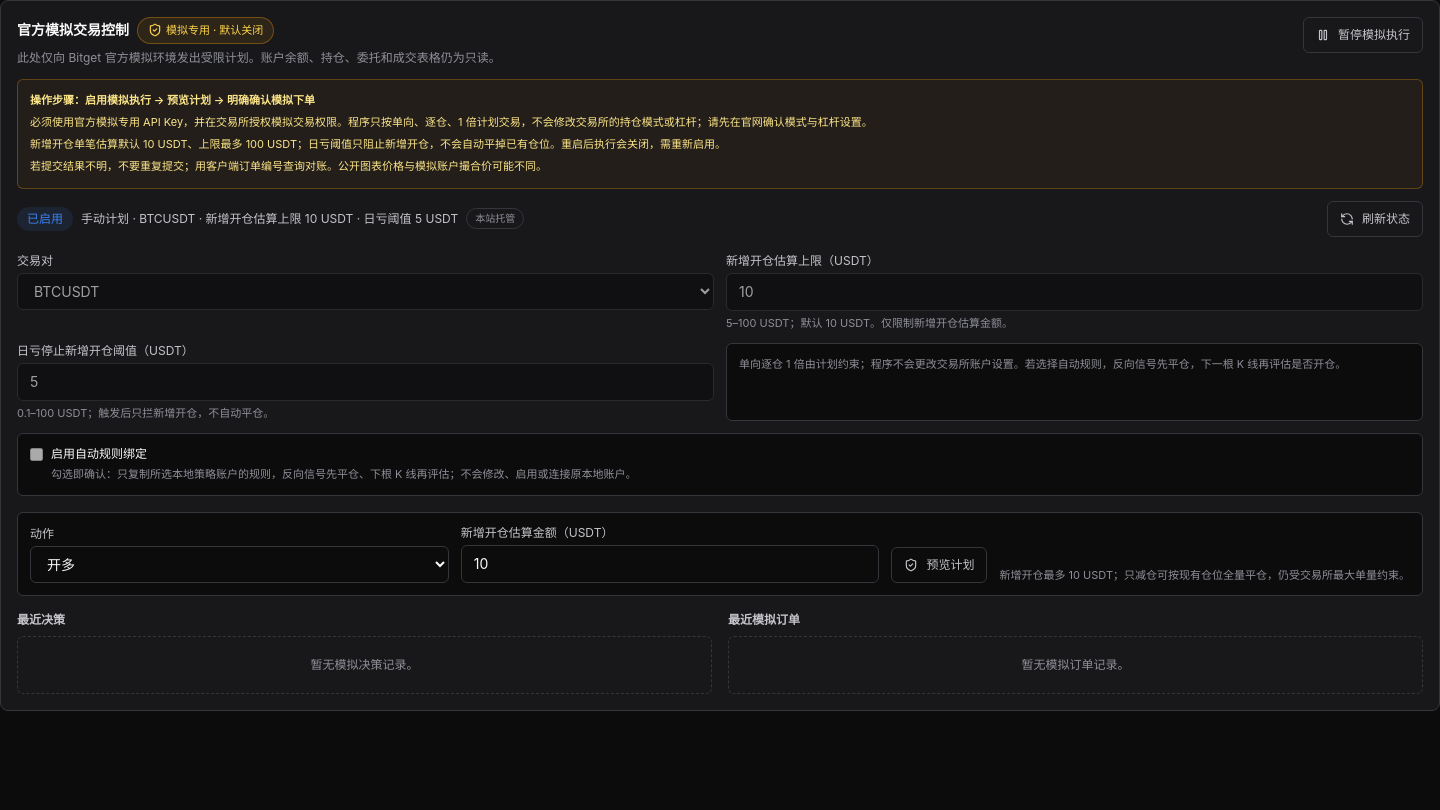
allows reduce-only full-position estimates above the new-open cap and accepts string estimates
The image size is (1440, 810).
Select "平空" in the dropdown labelled "动作" at (239, 565), box [30,546,449,583]
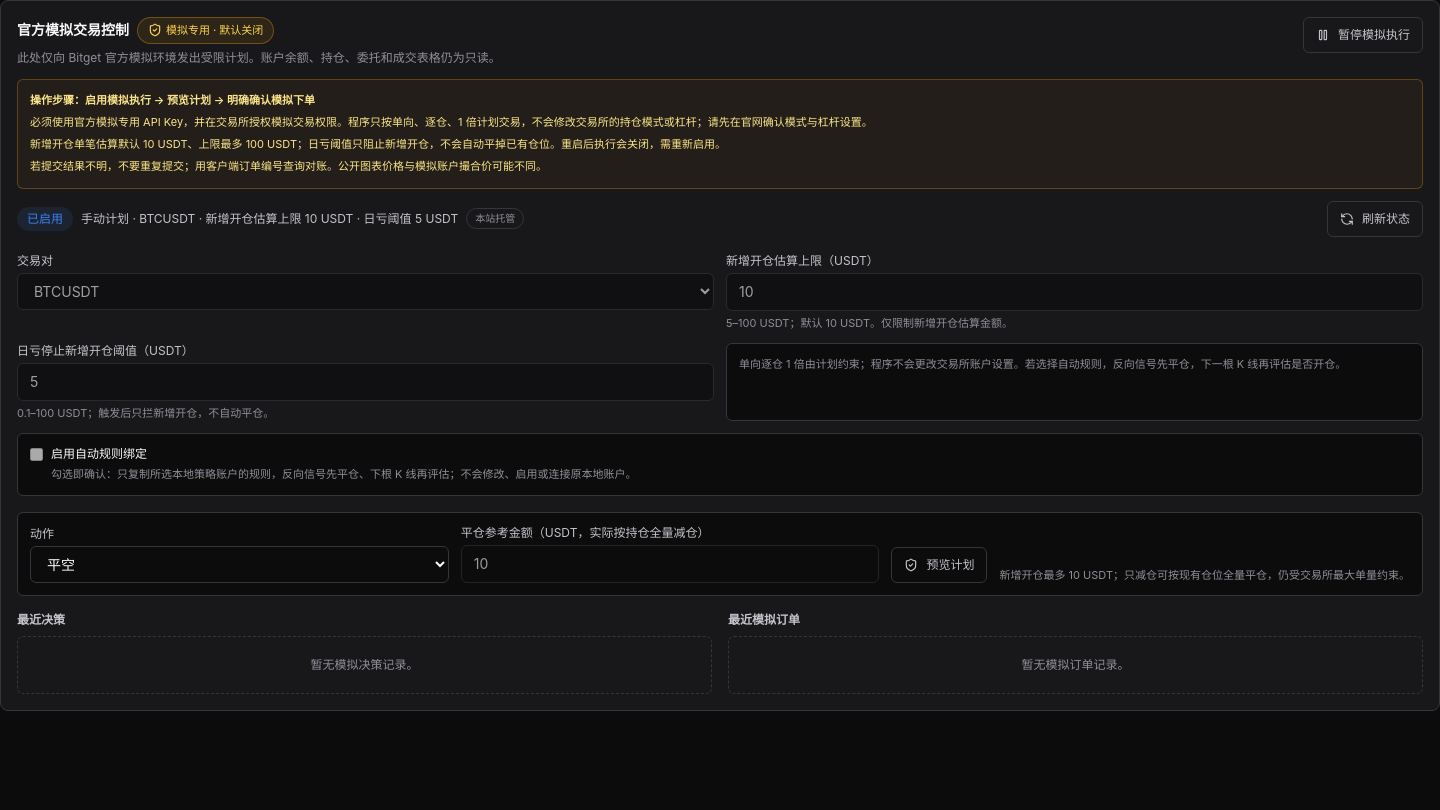
Click the button "预览计划" at (939, 565), box [891,547,987,583]
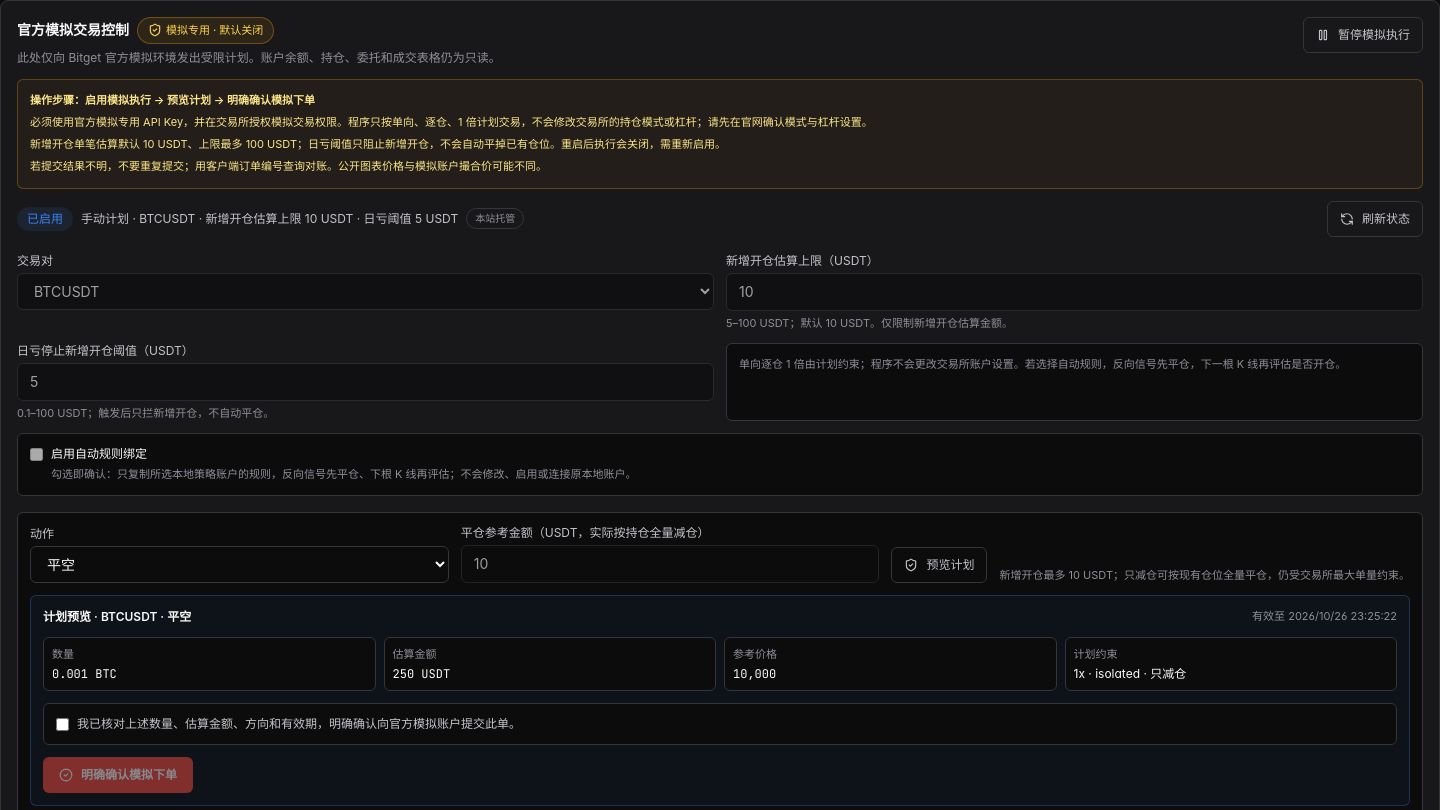
Expected: the text "全量平仓" is shown, [1080,568,1410,582]
Expected: the text "250 USDT" is shown, [392,666,450,682]
